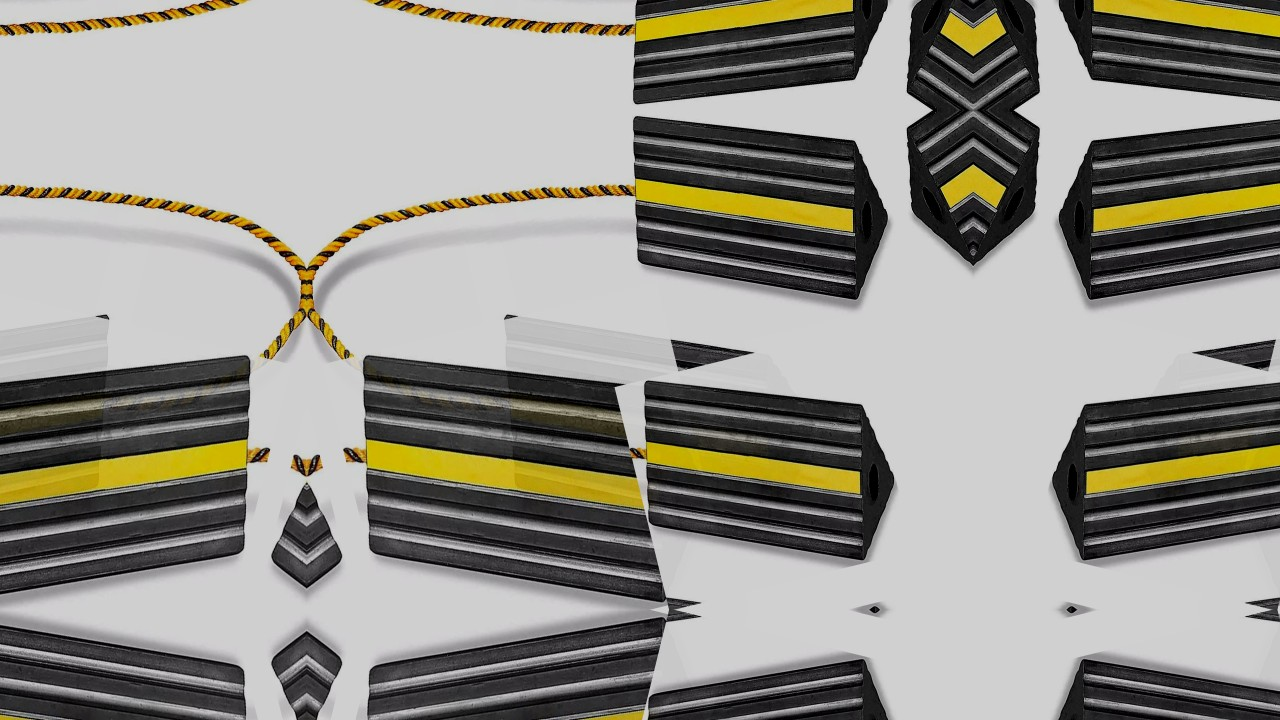chock: (322, 282, 732, 610), (474, 247, 843, 602), (0, 282, 291, 610), (615, 327, 913, 610), (603, 110, 907, 352), (1034, 327, 1280, 610), (1104, 247, 1280, 602), (1040, 110, 1280, 352), (0, 247, 139, 602), (322, 610, 732, 720), (474, 618, 843, 720), (603, 0, 907, 110), (615, 610, 913, 720), (0, 610, 291, 720), (1034, 610, 1280, 720), (1040, 0, 1280, 110), (1215, 282, 1280, 610), (1104, 618, 1280, 720), (0, 618, 139, 720)
